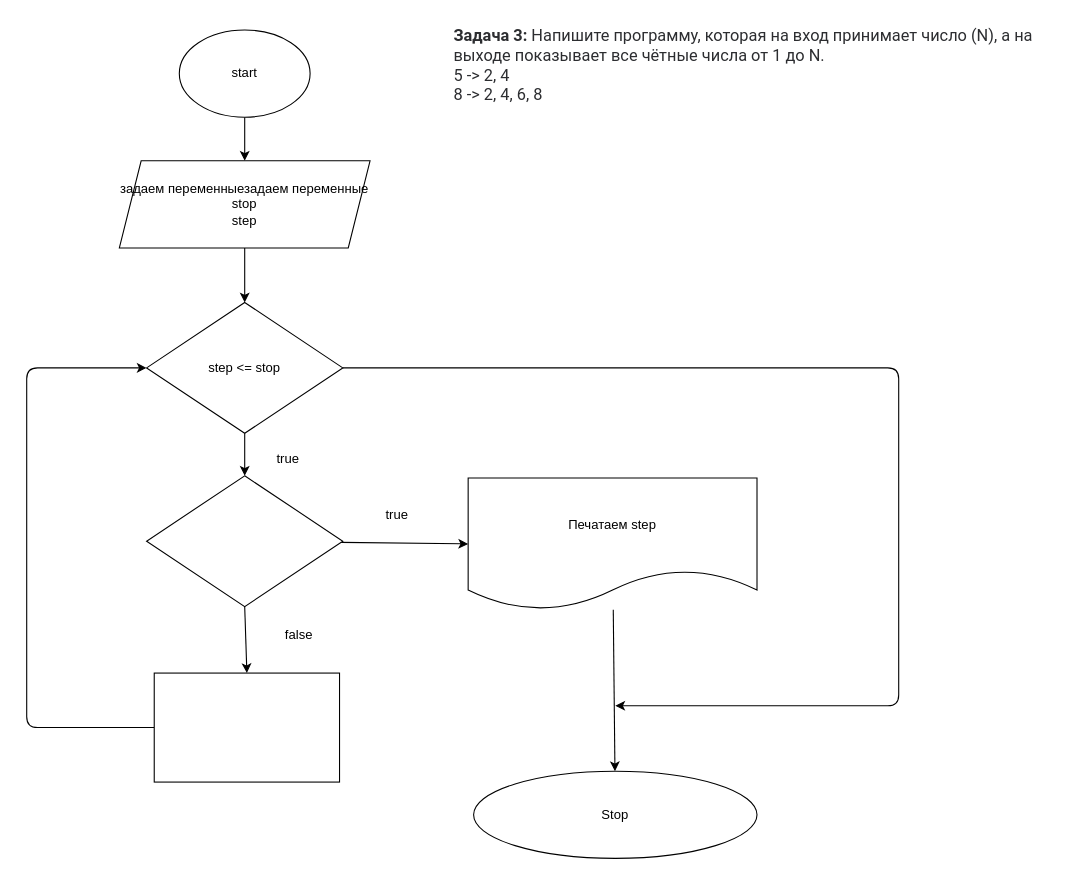
The diagram is 1070 pixels wide and 877 high, and some of its shapes have lost their labels. Each missing label, with the box of its shape:
step четное: (146, 475, 343, 607)
step=step+1: (153, 672, 340, 782)
